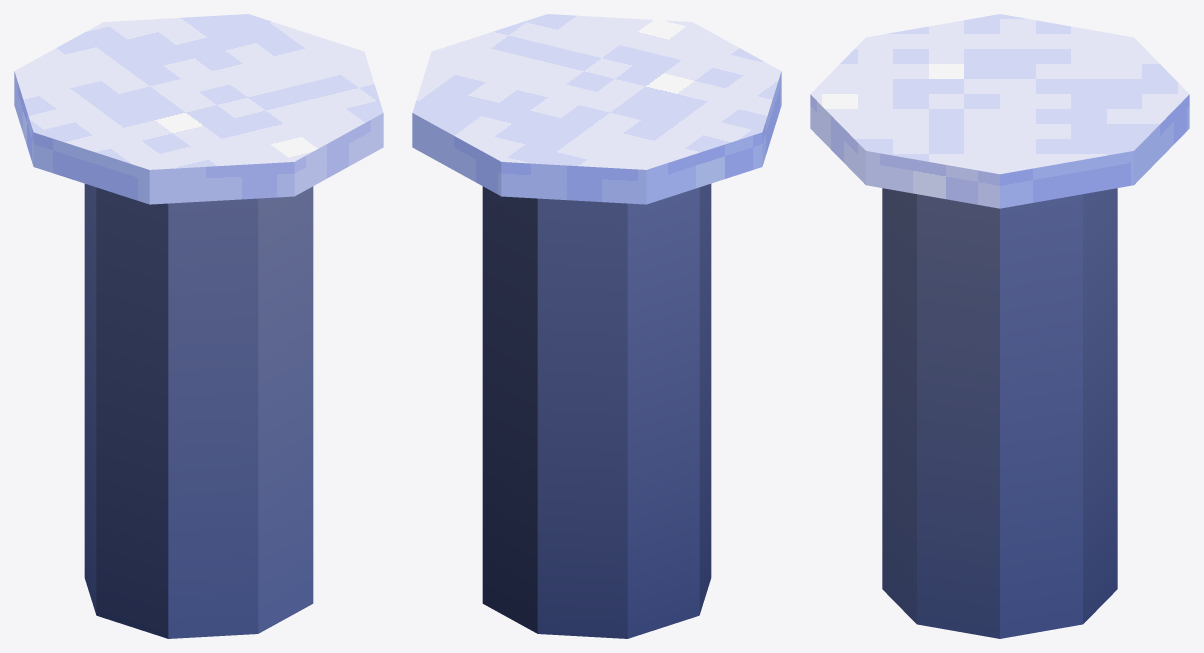
Rendered from furn.table__plinth.glb.
The picture shows the model from 3 angles, left to right: view 1: azimuth 30°, elevation 25°; view 2: azimuth 150°, elevation 25°; view 3: azimuth 270°, elevation 25°; orthographic projection.
Visible parts, largest first — view 1: kit_table_base, kit_table_top; view 2: kit_table_base, kit_table_top; view 3: kit_table_base, kit_table_top.
Part boxes in pixels (x1,y1,x2,y2): kit_table_base: (84,184,313,638); kit_table_top: (14,14,383,204); kit_table_base: (482,184,711,638); kit_table_top: (412,14,781,204); kit_table_base: (882,188,1117,638); kit_table_top: (810,14,1189,208).
Size of the model in its own units: 0.5 by 0.72 by 0.5.
2 materials, 1 textured.
